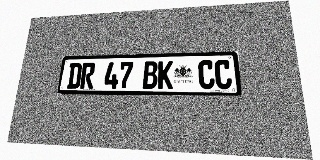4: (104, 62, 119, 89)
7: (118, 62, 134, 89)
B: (143, 61, 158, 89)
C: (214, 60, 232, 89), (198, 60, 215, 89)
D: (67, 63, 82, 89)
K: (158, 61, 173, 89)
R: (80, 63, 96, 89)
